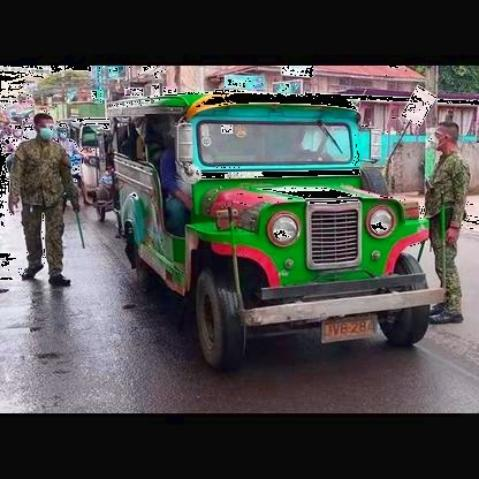jeepney: (104, 84, 430, 356)
